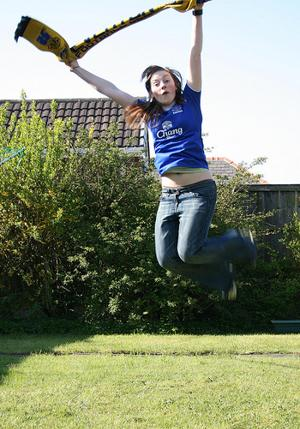person: (57, 3, 259, 304)
